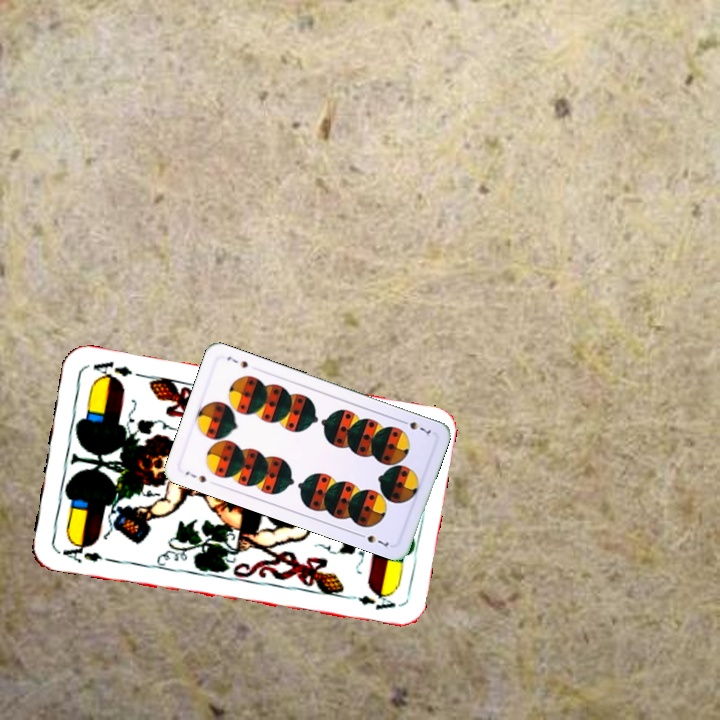EA: (54, 537, 105, 566)
S7: (396, 416, 434, 439), (181, 467, 209, 485)
